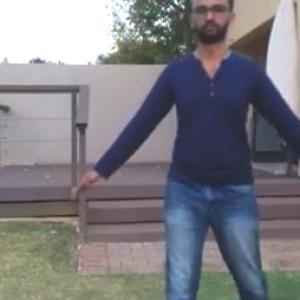land: (104, 9, 299, 299)
